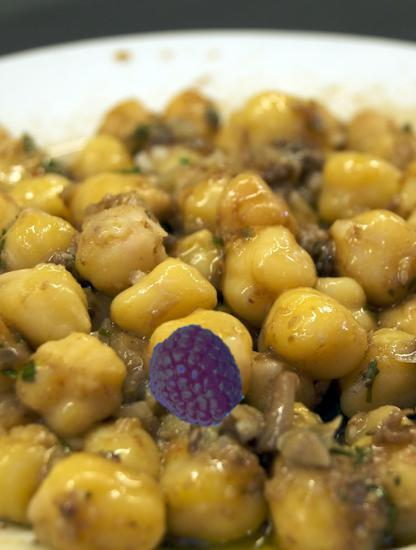Raspberry: (146, 326, 246, 426)
